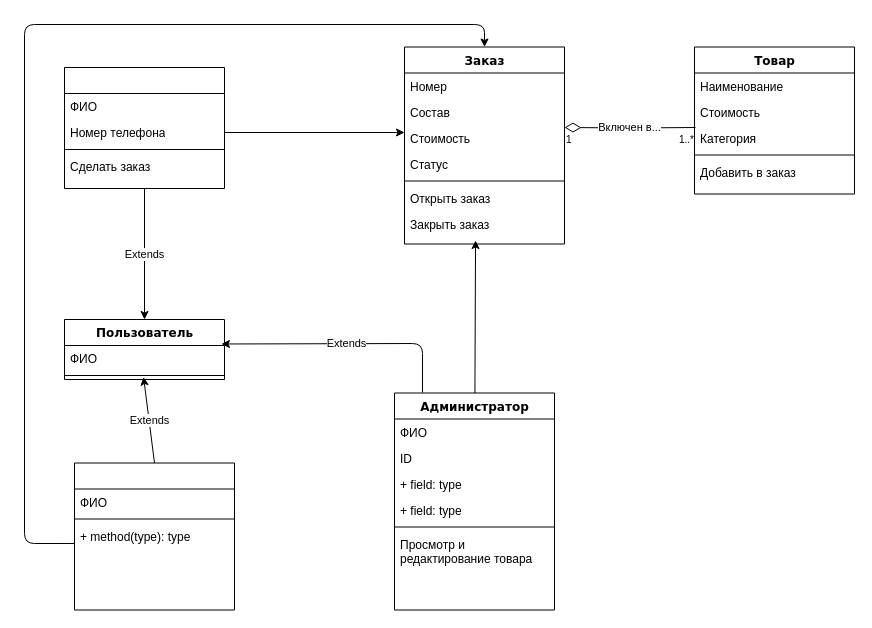
Some shapes in this 872 by 628 pixel diagram are drawn without their labels. The shapes that lost their labels are listed below. From the top down, each one's box as (x1, y1, x2, y2) in pixels, then its label:
(64, 66, 224, 188): Клиент
(74, 462, 234, 610): Курьер
